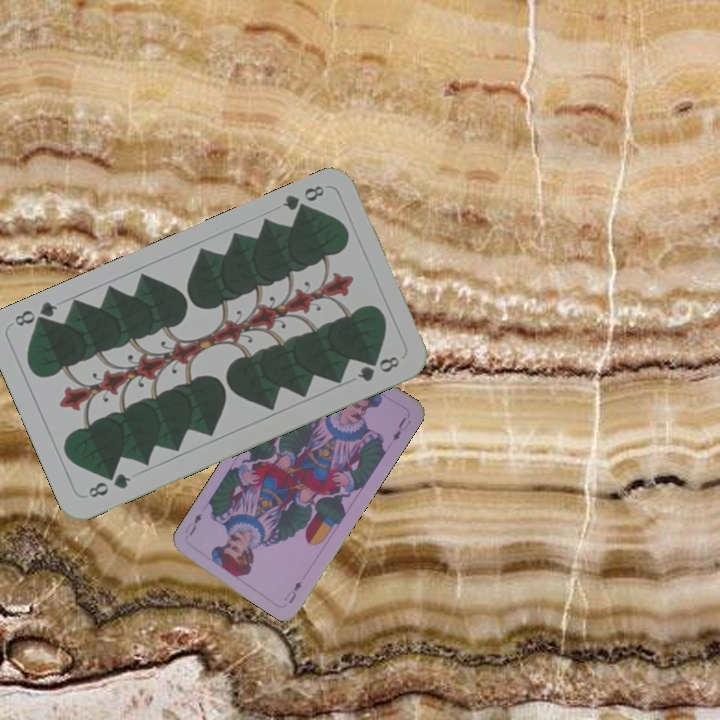EU: (280, 577, 304, 606)
G8: (278, 181, 327, 218), (84, 469, 134, 501)
